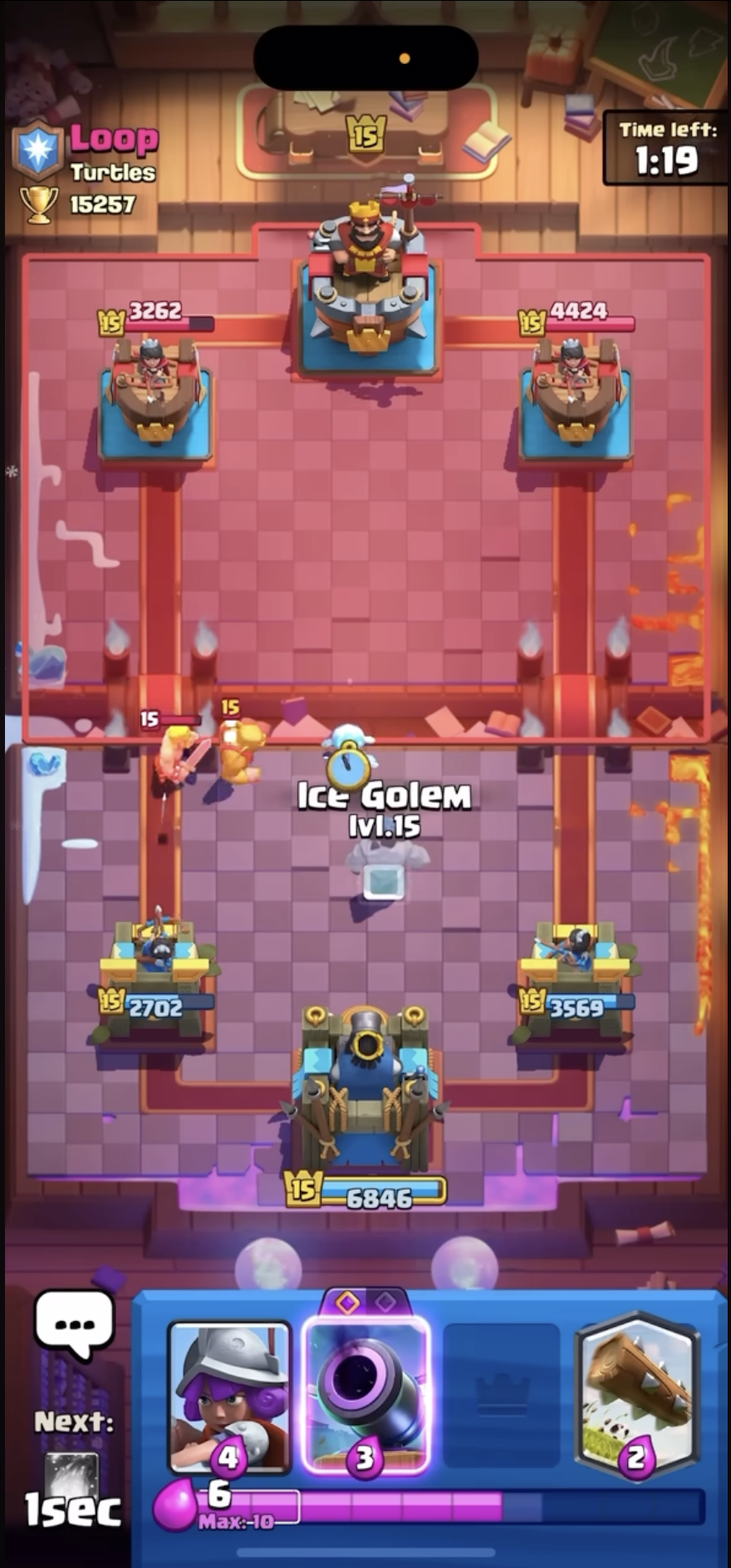barbarian: (139, 707, 215, 781)
brawler: (210, 699, 272, 782)
